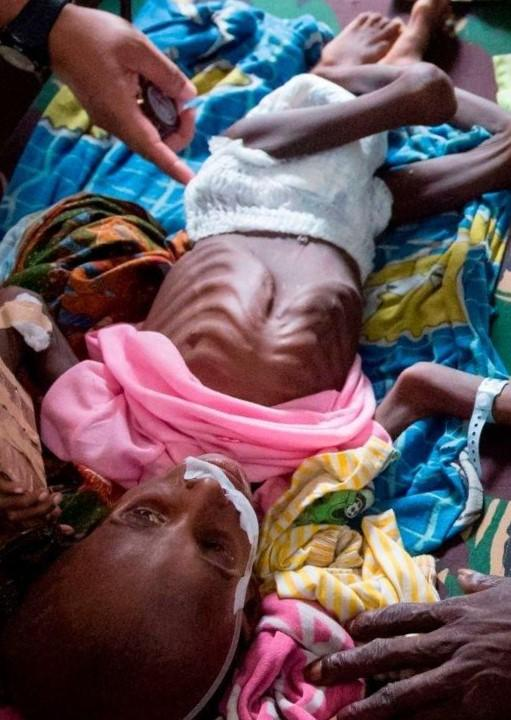Stunting: (40, 452, 294, 720)
